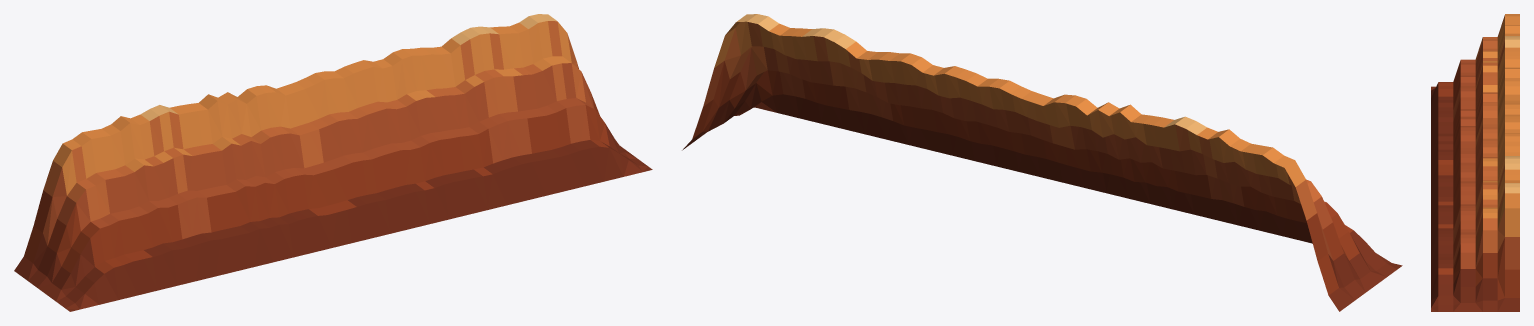
The model's file is W5_Far_WallsA.fbx.
3 views of the same model, side by side, from view 1: azimuth 30°, elevation 25°; view 2: azimuth 150°, elevation 25°; view 3: azimuth 270°, elevation 25° (orthographic). The views are drawn at different scales.
Visible parts, largest first — view 1: W5_Far_WallsA; view 2: W5_Far_WallsA; view 3: W5_Far_WallsA.
Boxes of the visible parts, x1=… form: W5_Far_WallsA: x1=14, y1=14, x2=652, y2=311; W5_Far_WallsA: x1=682, y1=14, x2=1402, y2=311; W5_Far_WallsA: x1=1431, y1=14, x2=1519, y2=311.
Bounding box in the file's own units: 480 × 104 × 80.
